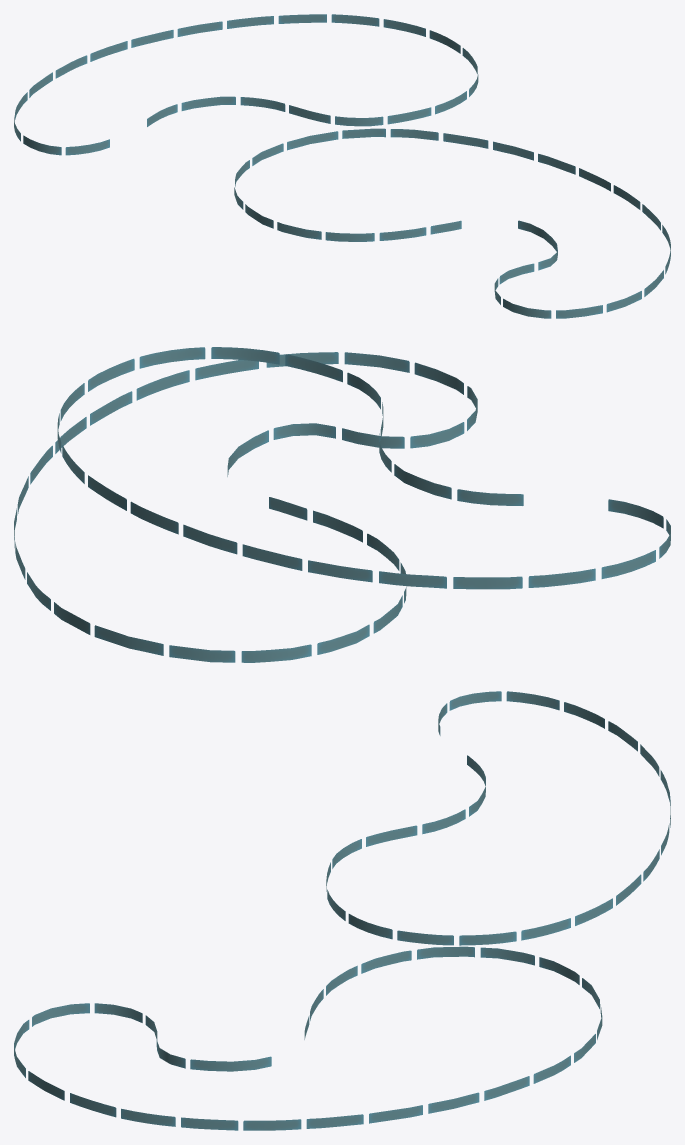
The model's file is mesh_1002_jxl_2i.FBX.
3 views of the same model, one above another, from view 1: azimuth 30°, elevation 25°; view 2: azimuth 150°, elevation 25°; view 3: azimuth 270°, elevation 25° (orthographic). The views are drawn at different scales.
Parts seen in each view (by area): view 1: mesh_1002_jxl_2i; view 2: mesh_1002_jxl_2i; view 3: mesh_1002_jxl_2i.
Boxes of the visible parts, x1,y1,x2,y2 form: mesh_1002_jxl_2i: (14,14,670,318); mesh_1002_jxl_2i: (14,347,670,662); mesh_1002_jxl_2i: (14,691,670,1130).
Size of the model in its own units: 4482 by 1011 by 4201.
